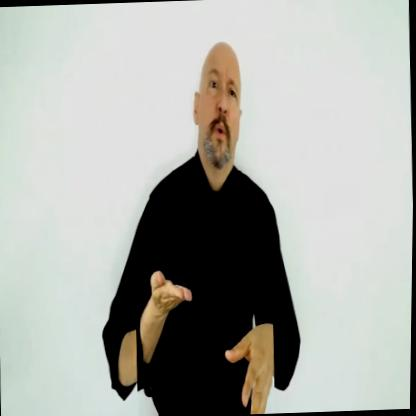Expensive: (133, 238, 278, 416)
